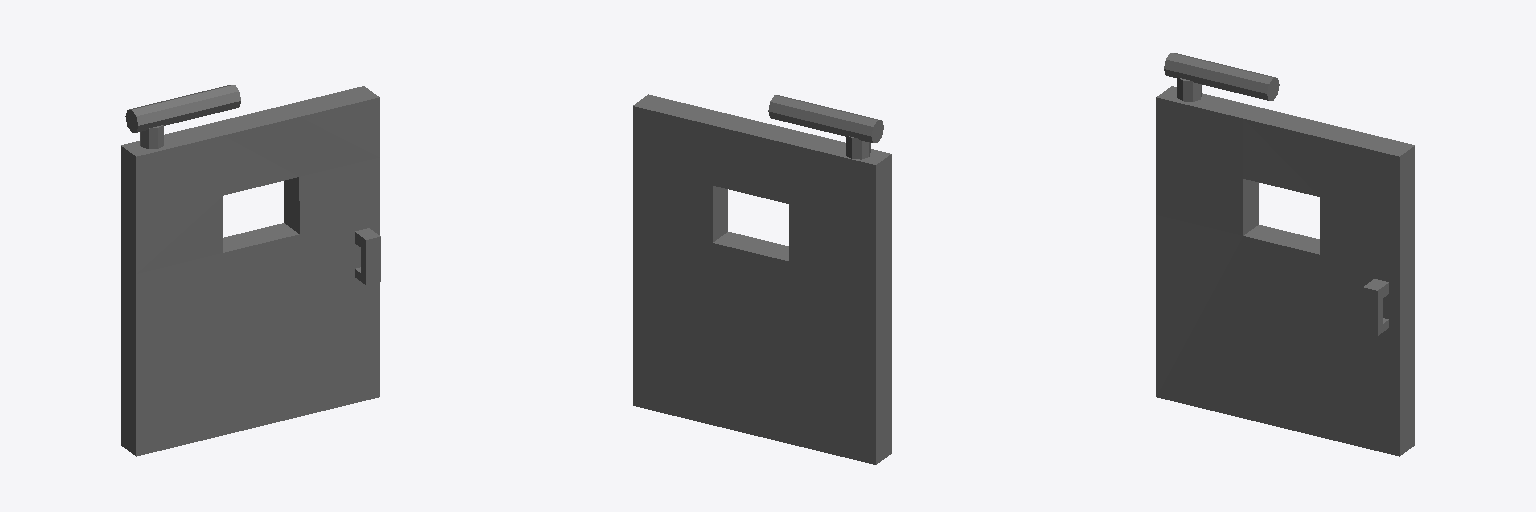
Rendered from door.obj.
3 renders of one model, left to right at view 1: azimuth 30°, elevation 25°; view 2: azimuth 150°, elevation 25°; view 3: azimuth 330°, elevation 25°, orthographic.
Parts seen in each view (by area): view 1: pCylinder3; view 2: pCylinder3; view 3: pCylinder3.
Boxes of the visible parts, x1=… form: pCylinder3: x1=121, y1=85, x2=380, y2=456; pCylinder3: x1=633, y1=94, x2=891, y2=464; pCylinder3: x1=1156, y1=53, x2=1414, y2=456.
Size of the model in its own units: 22.02 by 29.3 by 4.28.